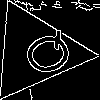Q: (10, 27, 78, 84)
